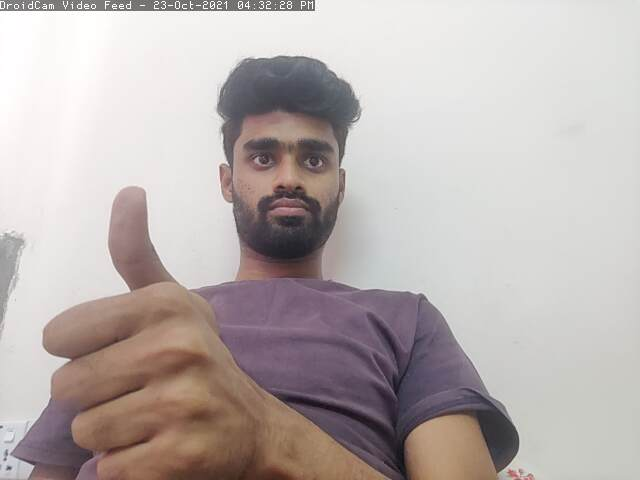ThumbsUp: (37, 180, 243, 480)
